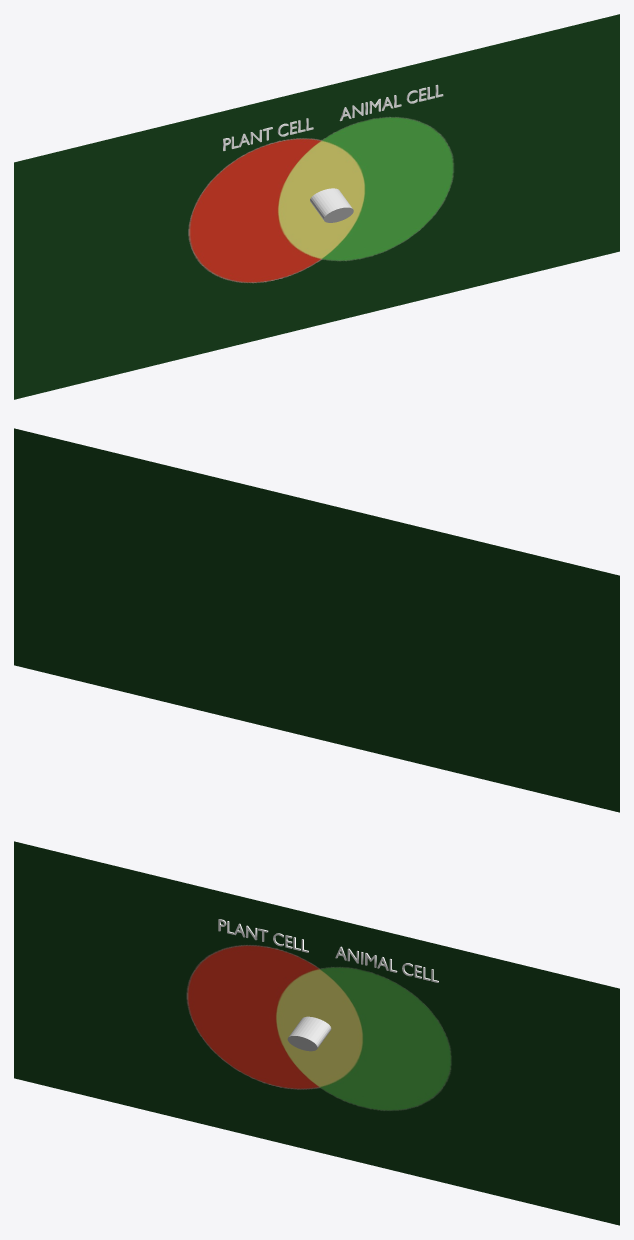
File: vacoule.gltf
3 views of the same model, one above another, from view 1: azimuth 30°, elevation 25°; view 2: azimuth 150°, elevation 25°; view 3: azimuth 330°, elevation 25° (orthographic).
Parts seen in each view (by area): view 1: Plane.039, Plane.013, Cylinder, Text.009, Text.008; view 2: Plane.013; view 3: Plane.039, Plane.013, Cylinder, Text.009, Text.008.
Part boxes in pixels (<box>): Plane.039: <box>120,41,523,370</box>; Plane.013: <box>14,14,619,399</box>; Cylinder: <box>310,188,353,222</box>; Text.009: <box>339,84,443,121</box>; Text.008: <box>223,118,313,150</box>; Plane.013: <box>14,428,619,812</box>; Plane.039: <box>118,869,521,1198</box>; Plane.013: <box>14,841,619,1225</box>; Cylinder: <box>287,1016,331,1051</box>; Text.009: <box>335,946,438,982</box>; Text.008: <box>218,919,308,952</box>.
Bounding box in the file's own units: 15.94 × 5.96 × 0.9082.
4 materials, 1 textured.
